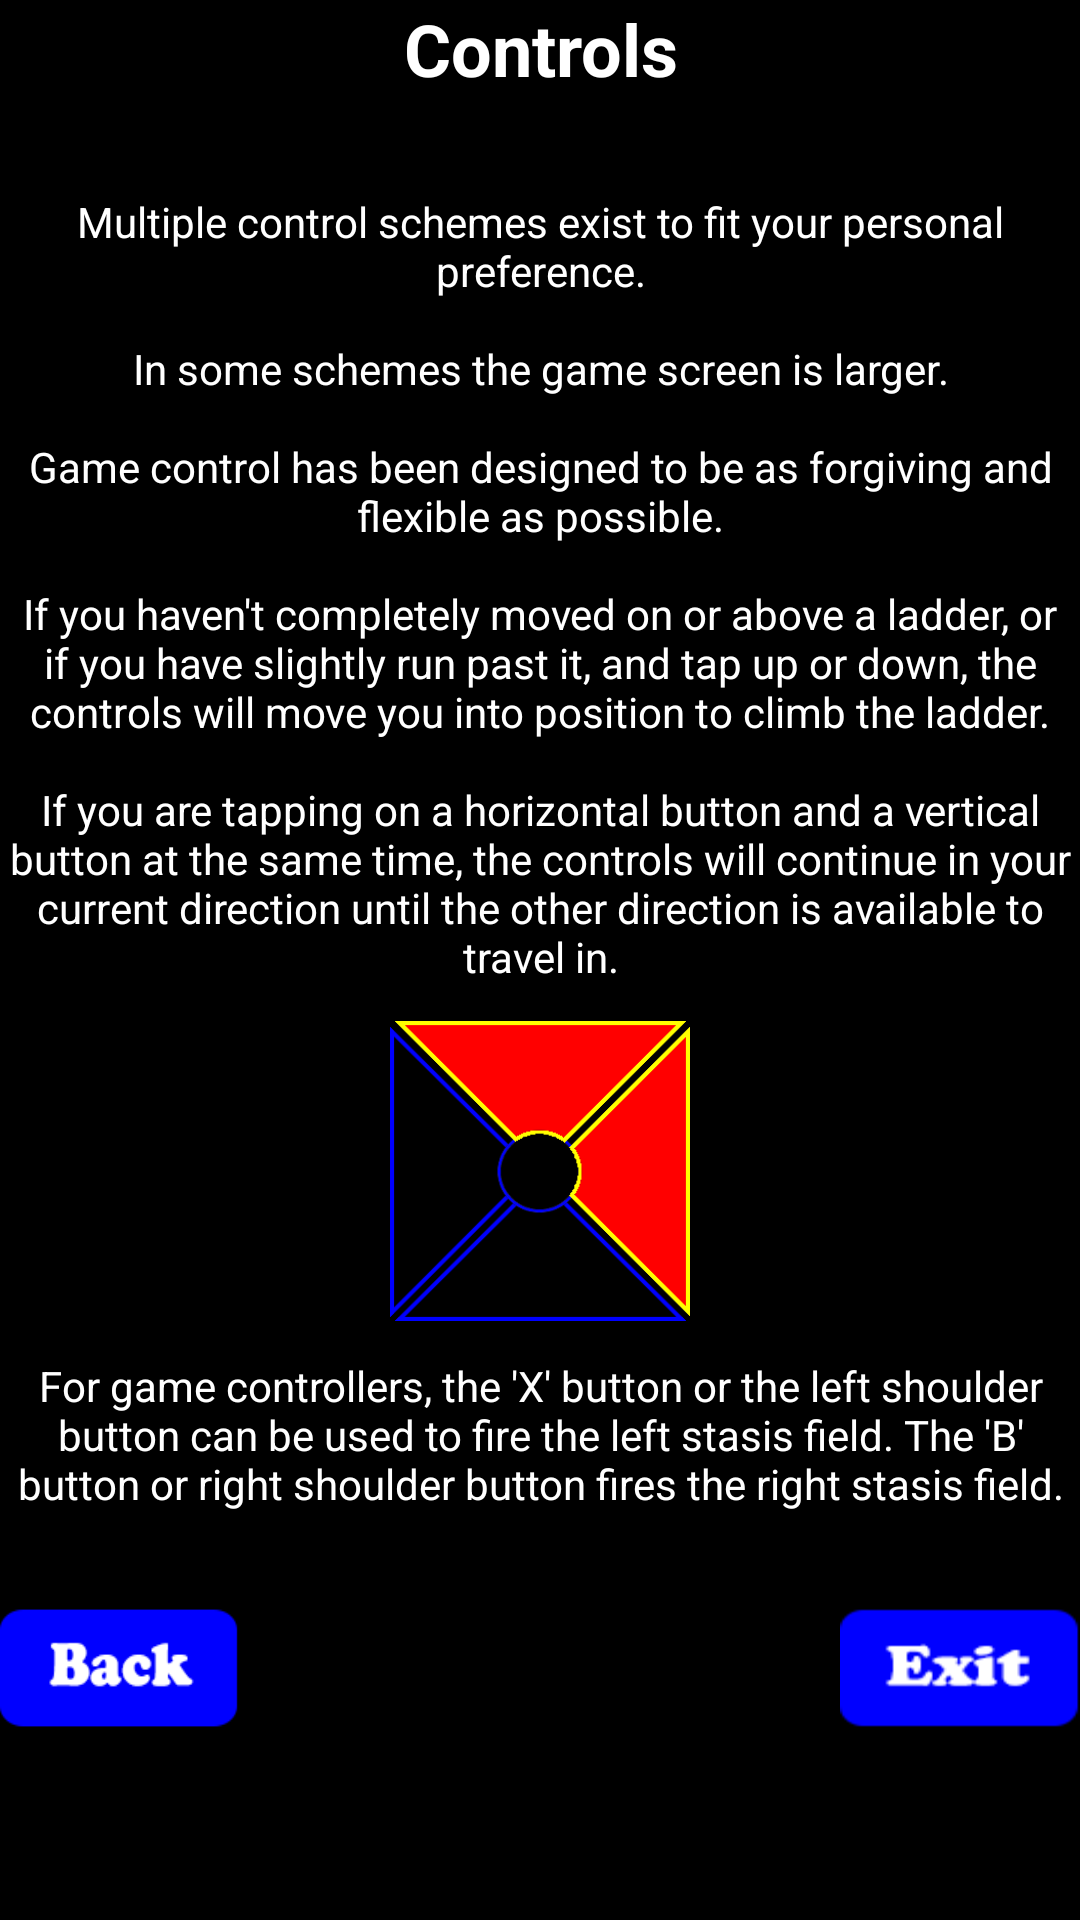

Where icons sit on this 1080 x 1920 app screen, as box(x1, y1, x2, y2):
buttons top and right: box(390, 1021, 690, 1321)
